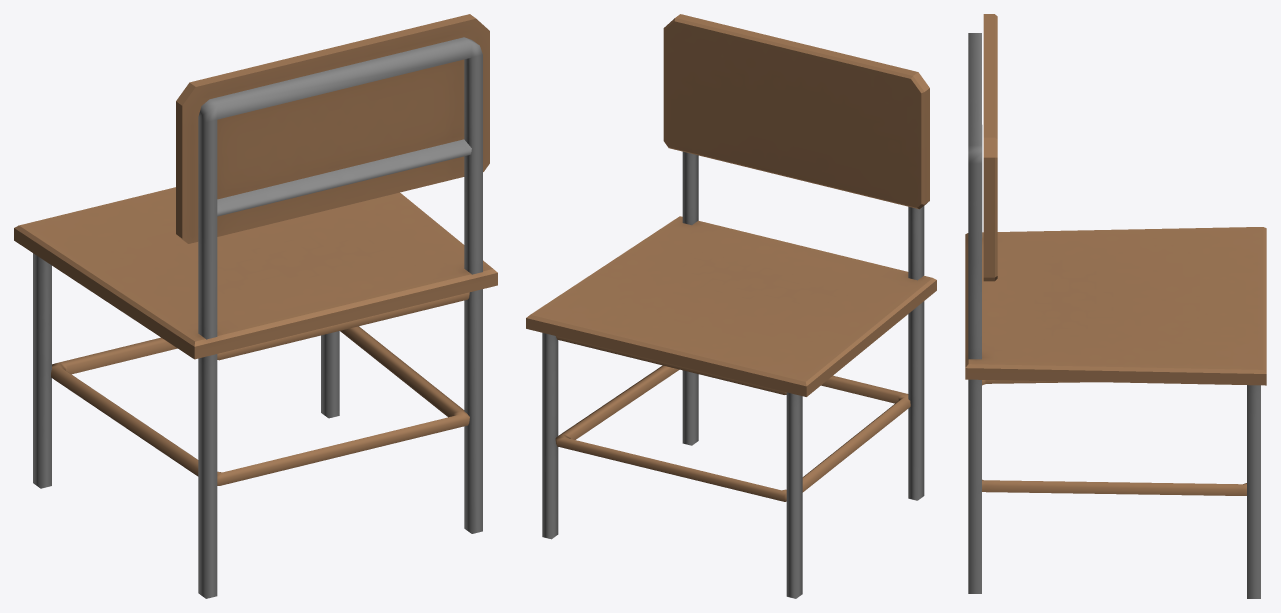
The model's file is Chair.fbx.
3 renders of one model, left to right at view 1: azimuth 30°, elevation 25°; view 2: azimuth 150°, elevation 25°; view 3: azimuth 270°, elevation 25°, orthographic. The views are drawn at different scales.
Parts seen in each view (by area): view 1: Chair; view 2: Chair; view 3: Chair.
Part boxes in pixels (bbox=[...]): Chair: bbox=[14, 14, 497, 598]; Chair: bbox=[526, 14, 936, 598]; Chair: bbox=[965, 14, 1266, 598].
Bounding box in the file's own units: 54.59 × 79.9 × 47.77.
